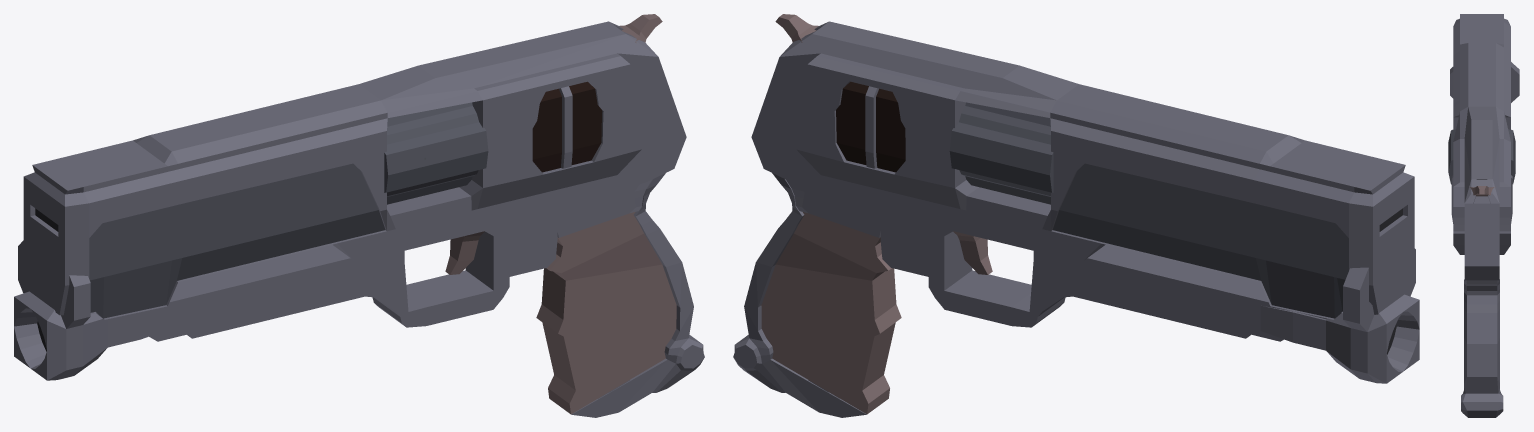
The model's file is handcannon.fbx.
3 views of the same model, side by side, from view 1: azimuth 30°, elevation 25°; view 2: azimuth 150°, elevation 25°; view 3: azimuth 270°, elevation 25° (orthographic). The views are drawn at different scales.
Parts seen in each view (by area): view 1: Gun, Handle, Cylinder, GrenadeLobber, Trigger, Hammer; view 2: Gun, Handle, GrenadeLobber, Cylinder, Trigger, Hammer; view 3: Gun, Handle, Cylinder, GrenadeLobber, Hammer.
Boxes of the visible parts, <box> form: Gun: <box>23,21,686,341</box>; Handle: <box>536,173,704,417</box>; Cylinder: <box>384,102,488,204</box>; GrenadeLobber: <box>14,240,148,380</box>; Trigger: <box>445,231,484,274</box>; Hammer: <box>619,14,662,42</box>; Gun: <box>751,21,1414,341</box>; Handle: <box>733,173,901,417</box>; GrenadeLobber: <box>1260,248,1419,383</box>; Cylinder: <box>949,102,1053,204</box>; Trigger: <box>953,231,992,274</box>; Hammer: <box>775,14,818,42</box>; Gun: <box>1451,14,1512,280</box>; Handle: <box>1461,279,1503,417</box>; Cylinder: <box>1448,129,1515,184</box>; GrenadeLobber: <box>1450,62,1519,102</box>; Hammer: <box>1470,186,1495,196</box>.
Bounding box in the file's own units: 361 × 198 × 54.19.
